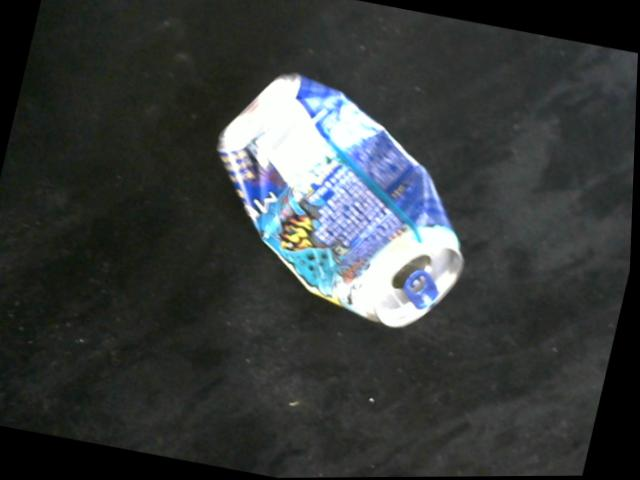can: (220, 73, 464, 324)
